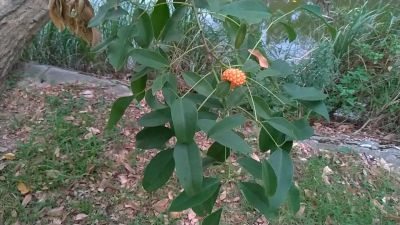eggs: (220, 65, 248, 88)
